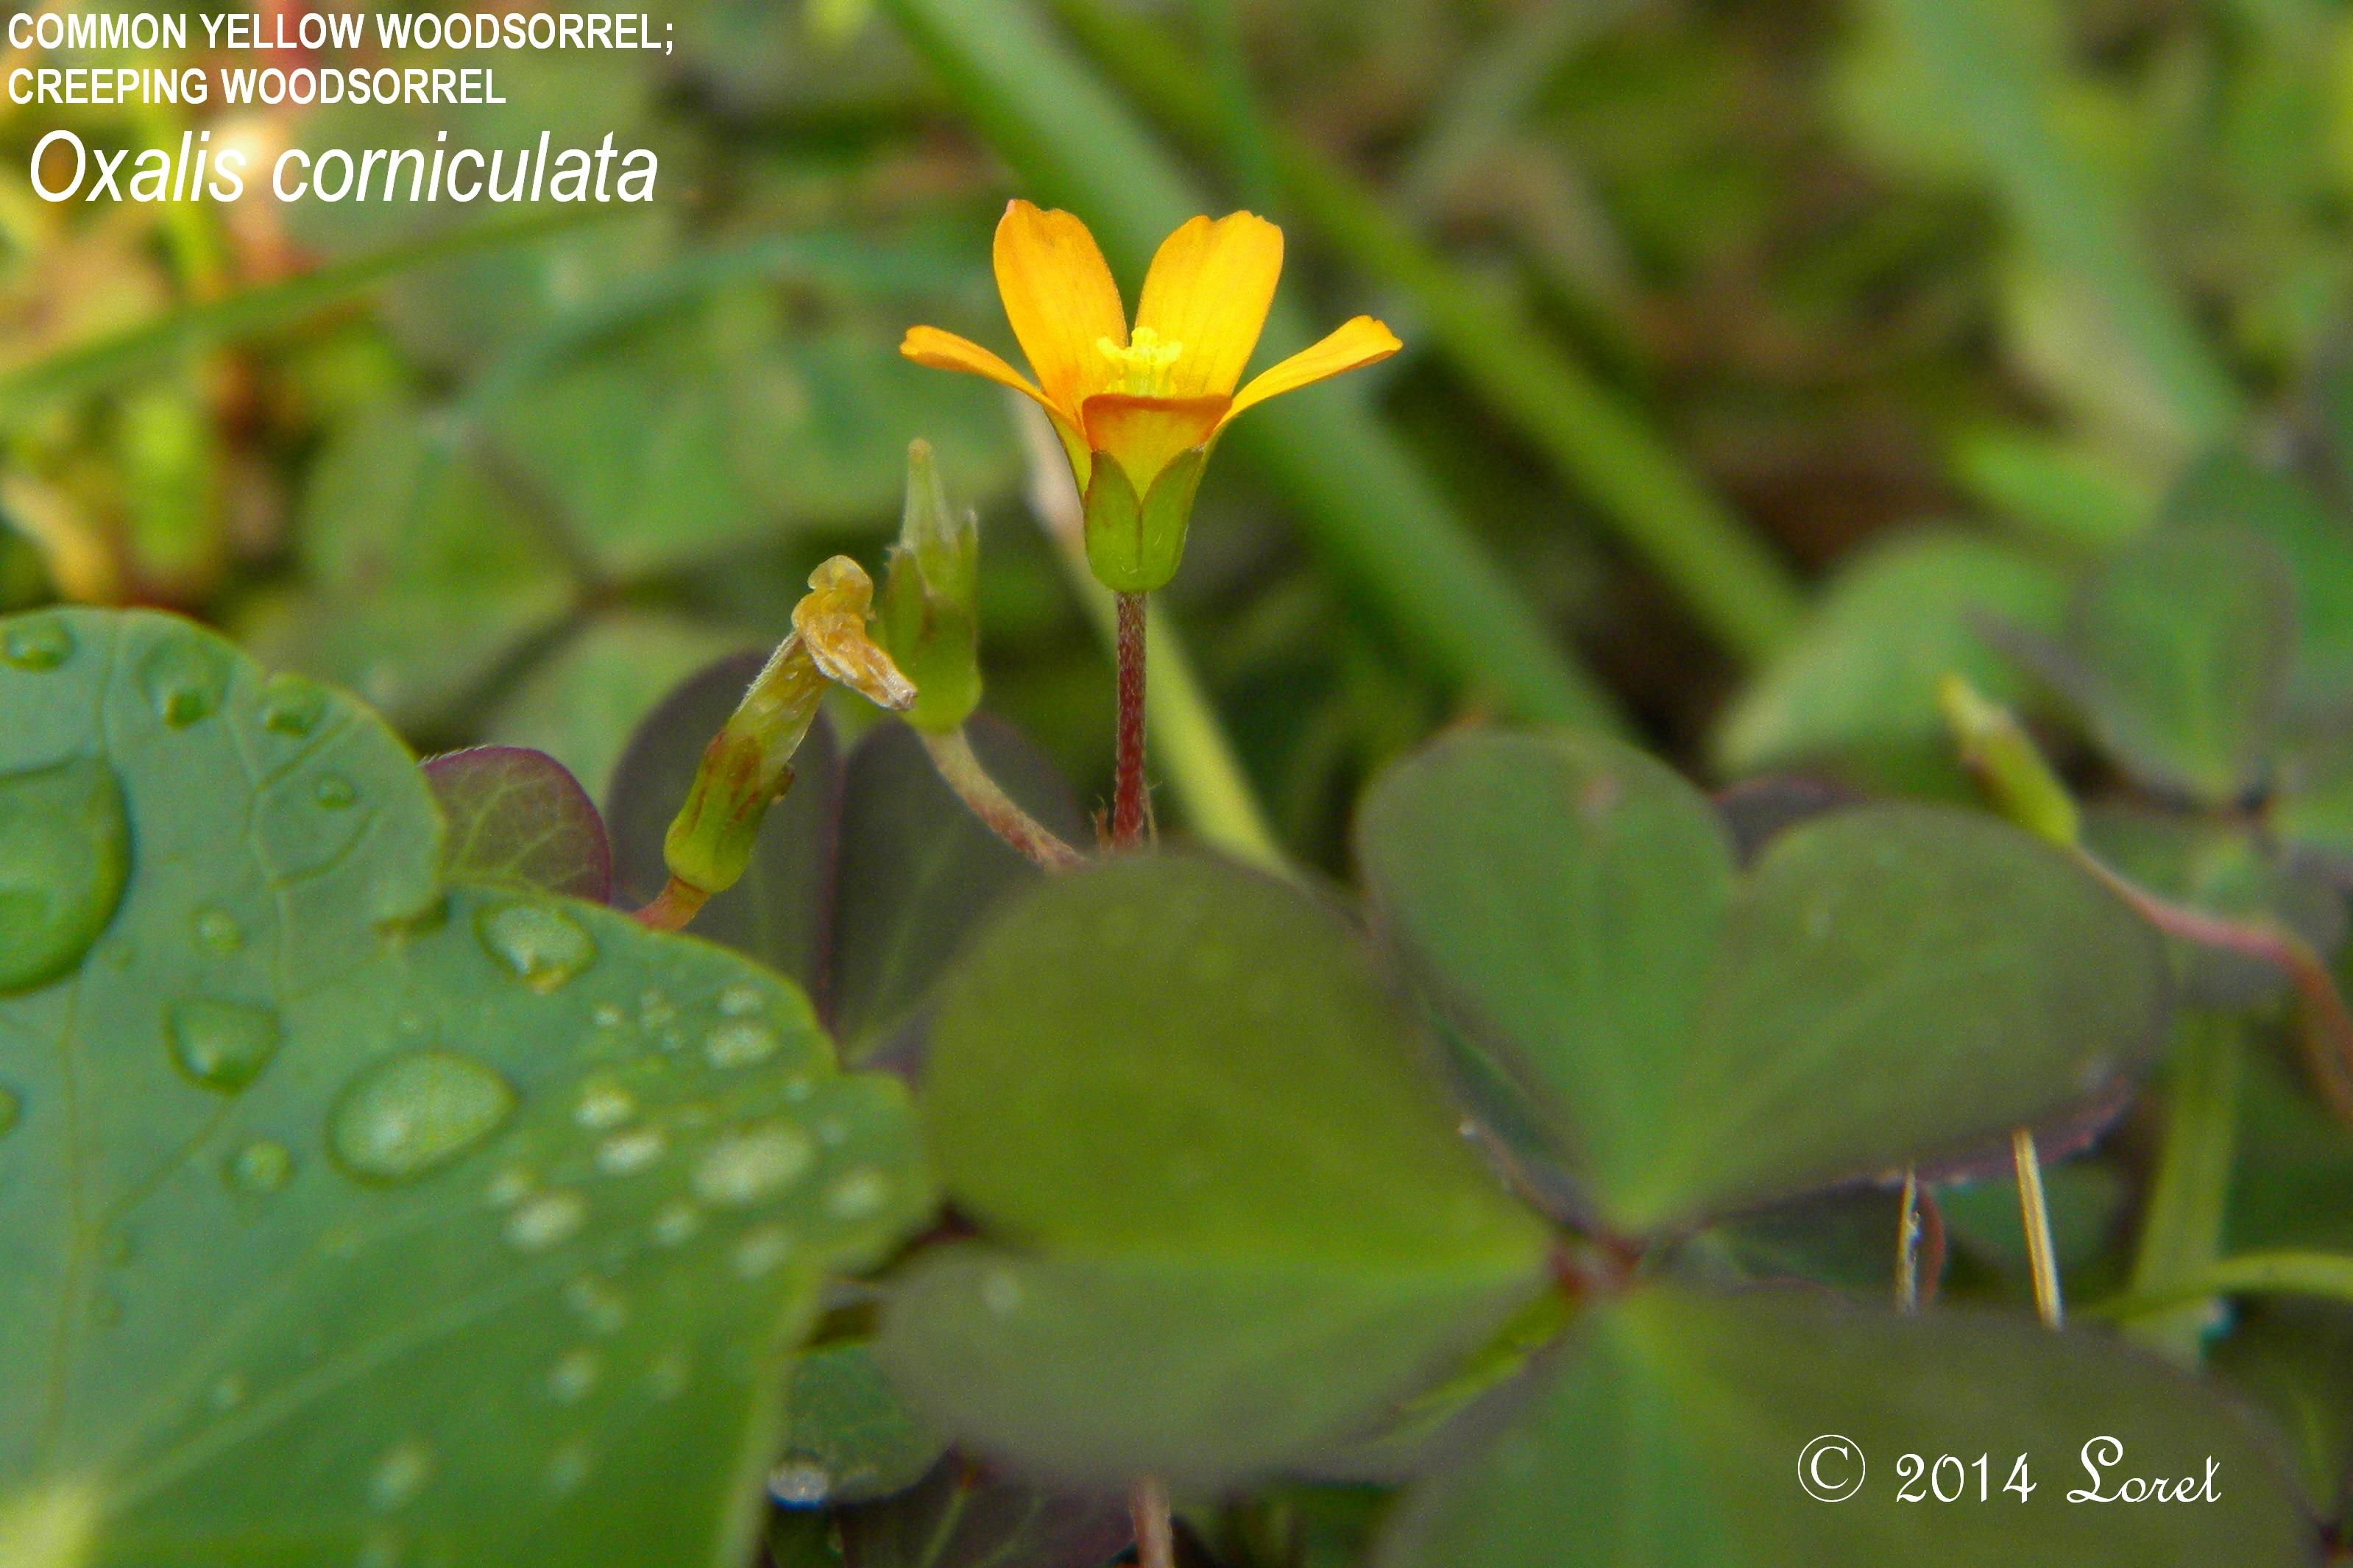oxalis: (308, 193, 2353, 1507)
